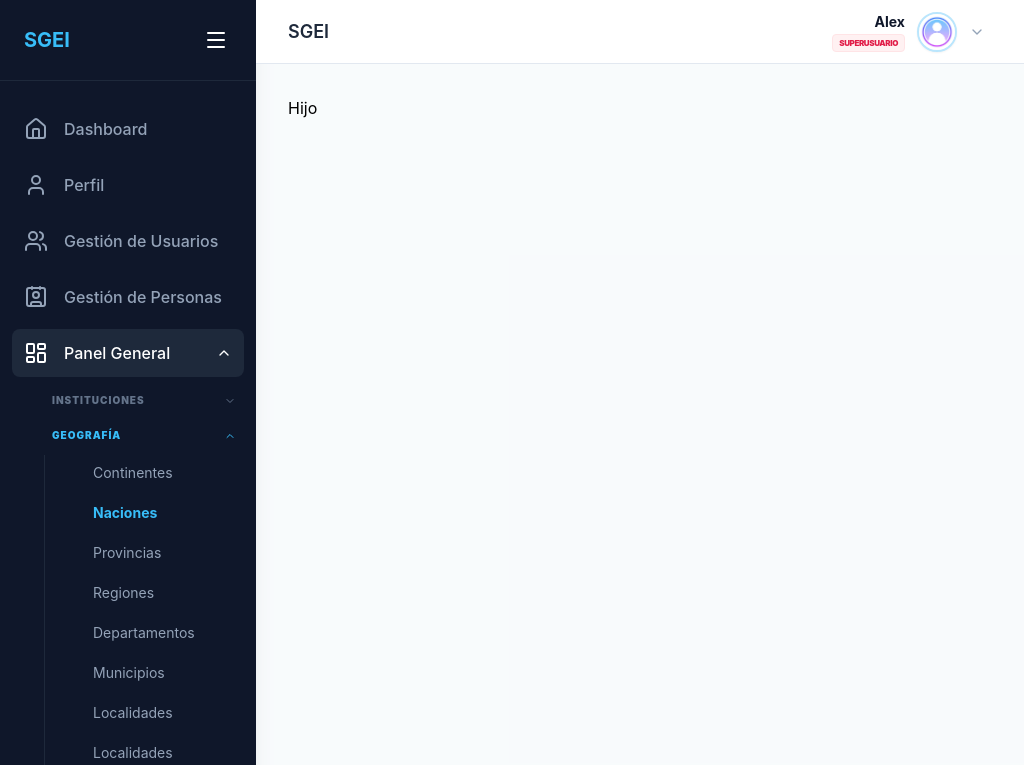
Test: Layout Component › permite abrir y cerrar manualmente los grupos del menú
The image size is (1024, 765).
// "Instituciones" arranca cerrado: abrimos
Click the button "Instituciones".
click(136, 400)  # box [28,385,244,416]
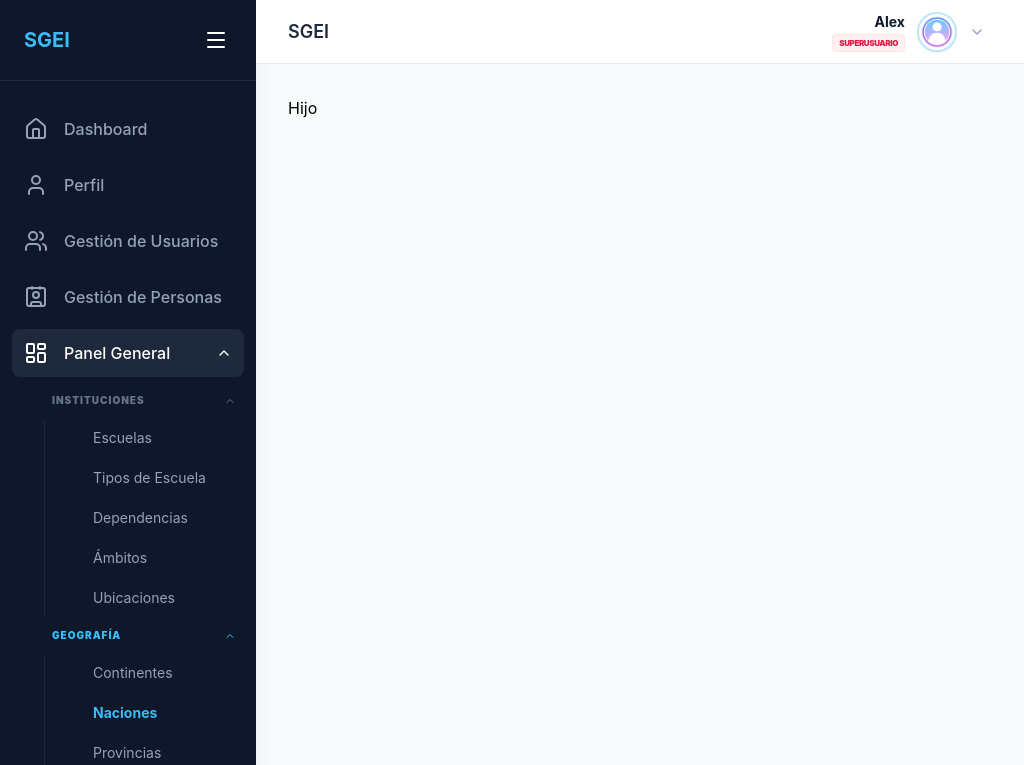
Expected: the link "Dependencias" is shown, [93,509,188,526]
// "Geografía" arranca abierta por la ruta: cerramos
Click the button "Geografía".
click(136, 636)  # box [28,620,244,651]
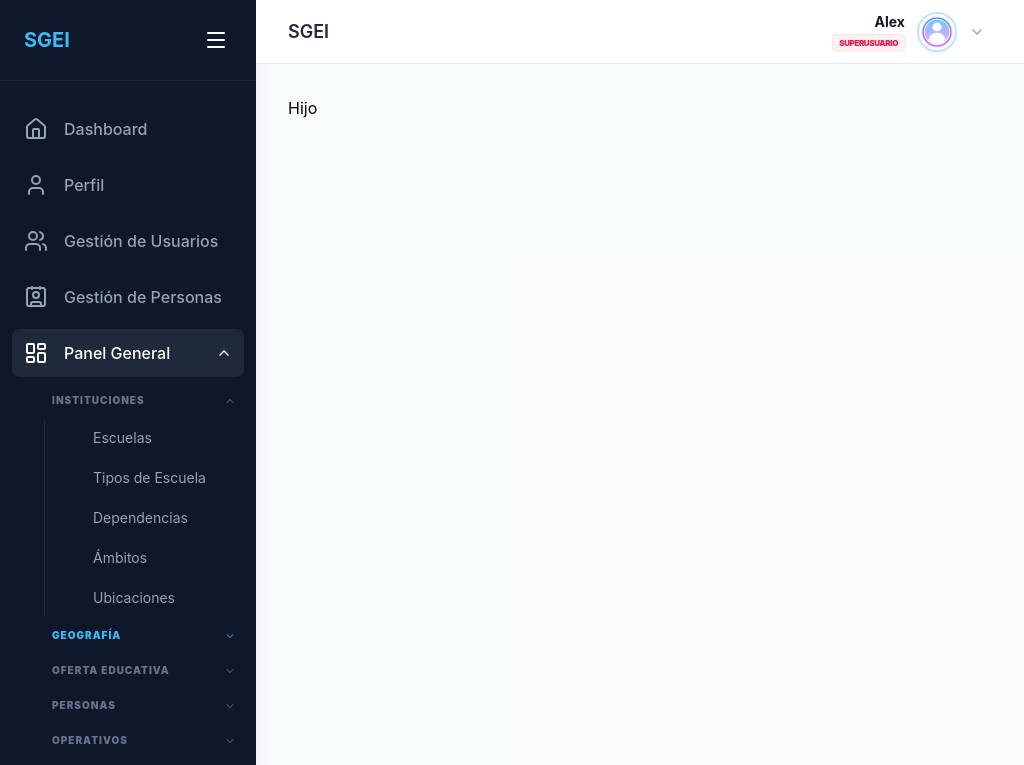
Expected: the link "Naciones" is gone
